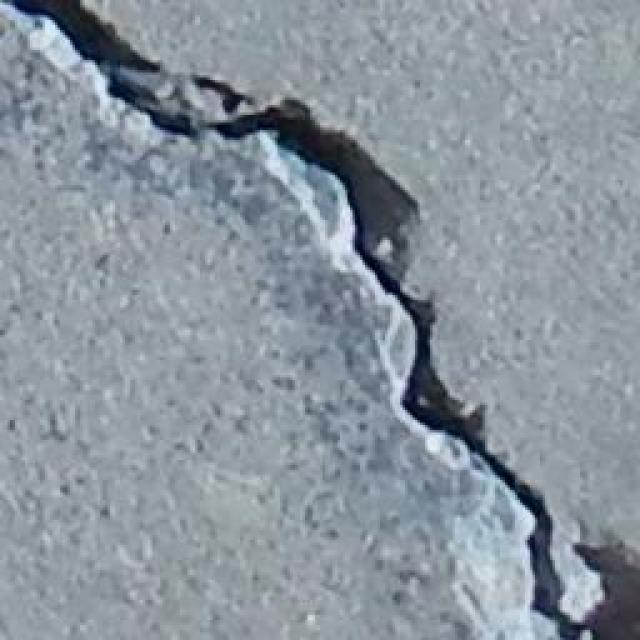concrete-crack: (6, 0, 636, 640)
